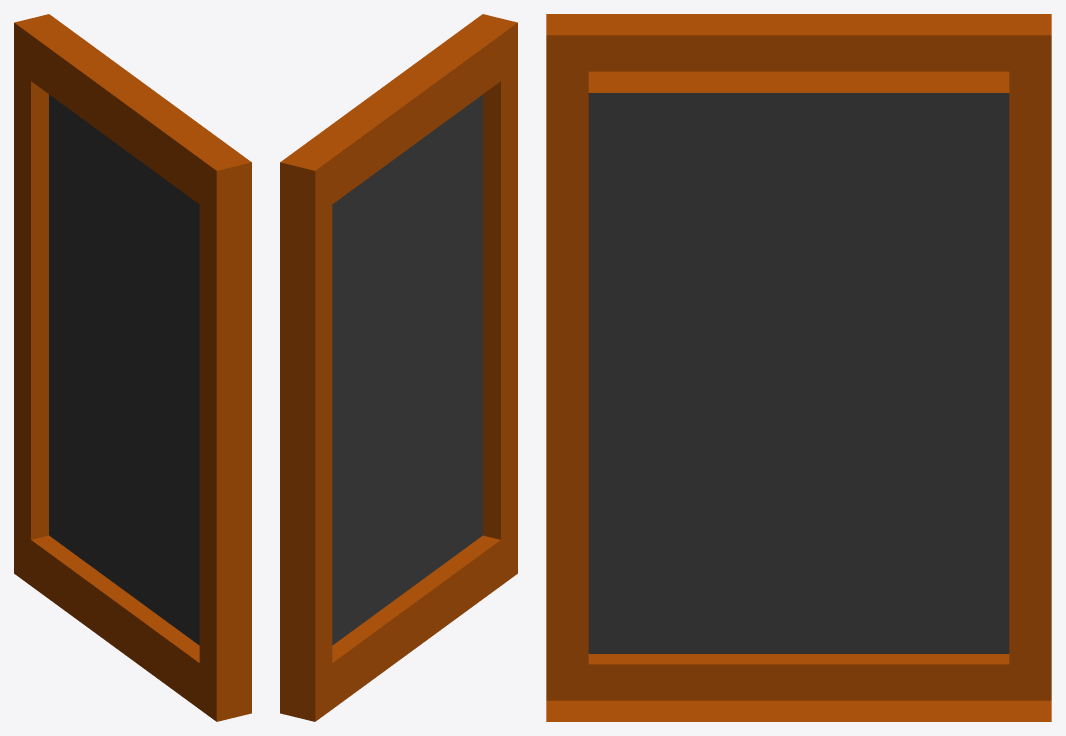
File: Window3.FBX
The picture shows the model from 3 angles, left to right: view 1: azimuth 30°, elevation 25°; view 2: azimuth 150°, elevation 25°; view 3: azimuth 270°, elevation 25°; orthographic projection. The views are drawn at different scales.
Parts seen in each view (by area): view 1: Plane250; view 2: Plane250; view 3: Plane250.
Boxes of the visible parts, x1=… form: Plane250: x1=14, y1=14, x2=251, y2=721; Plane250: x1=280, y1=14, x2=517, y2=721; Plane250: x1=546, y1=14, x2=1051, y2=721.
Bounding box in the file's own units: 10 × 150 × 100.
